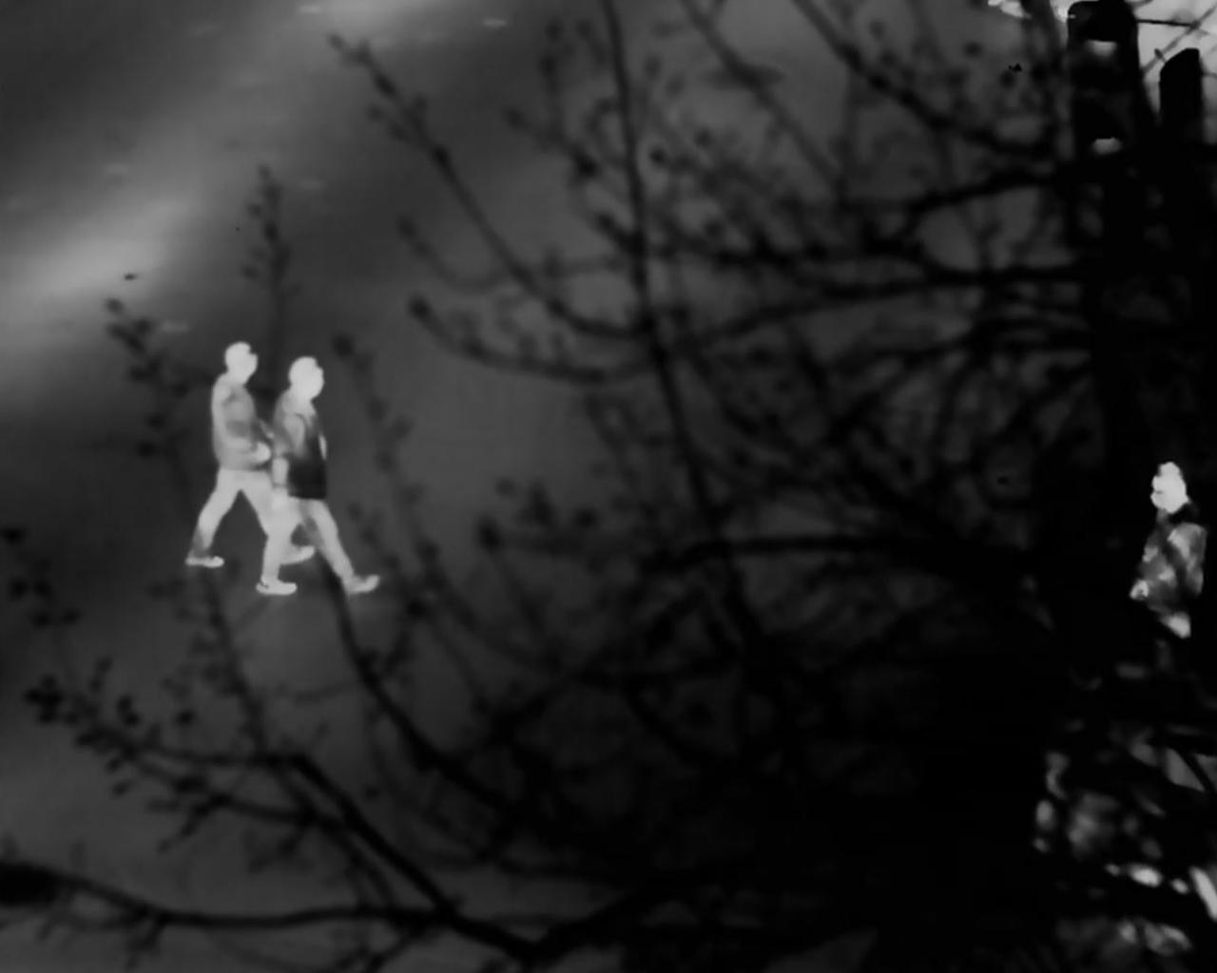person: (183, 335, 317, 571), (261, 354, 380, 598), (1129, 450, 1206, 665)
